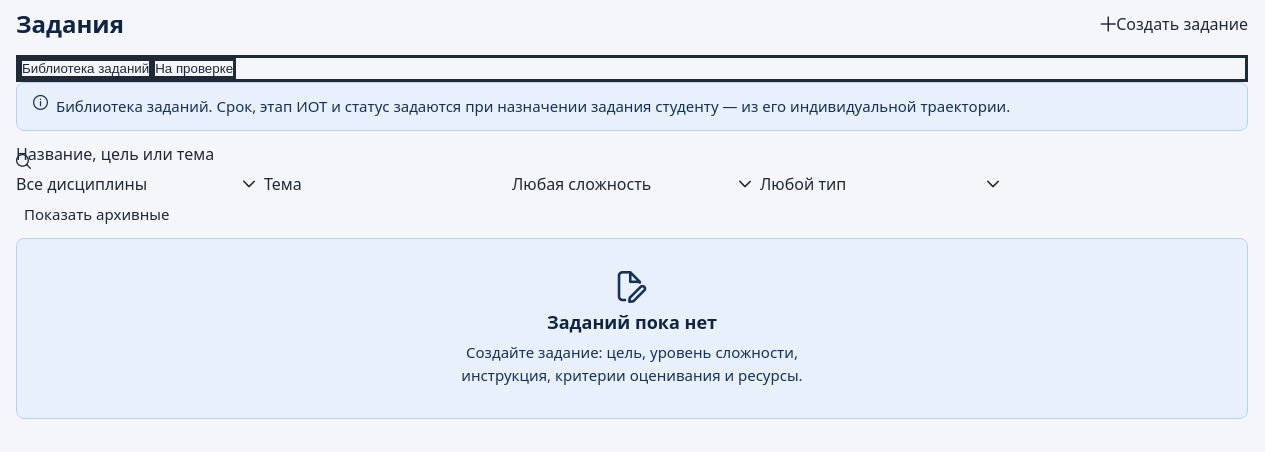
it: Раздел «Задания» — библиотека заданий › FR-047: поиск по тексту уходит на сервер параметром q
Type "дроби" into the field named "Поиск заданий".
click(632, 154); type("дроби")  # box [16,142,1248,164]
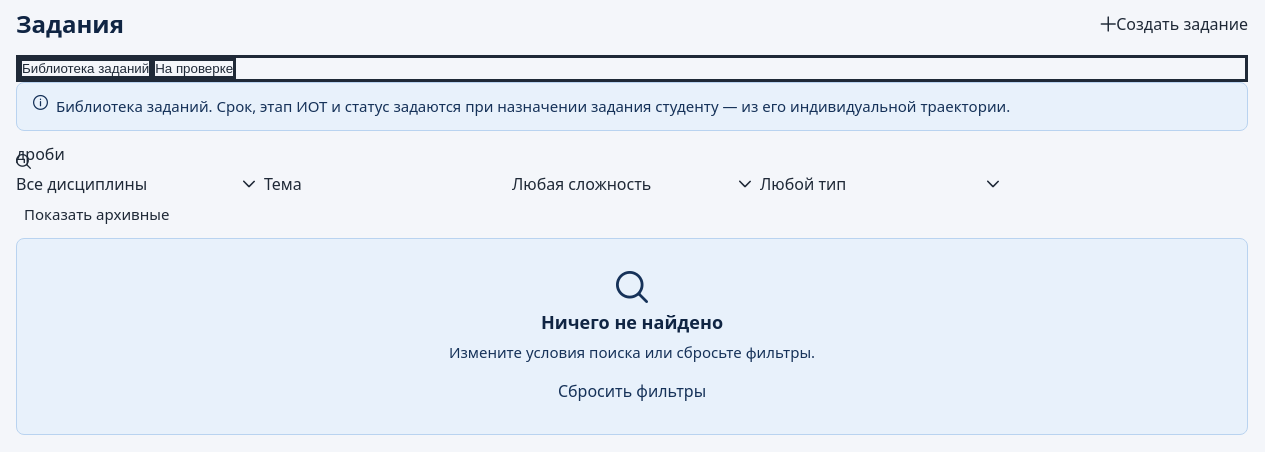
Now the text "Ничего не найдено" is shown, box [541,310,723,333]
